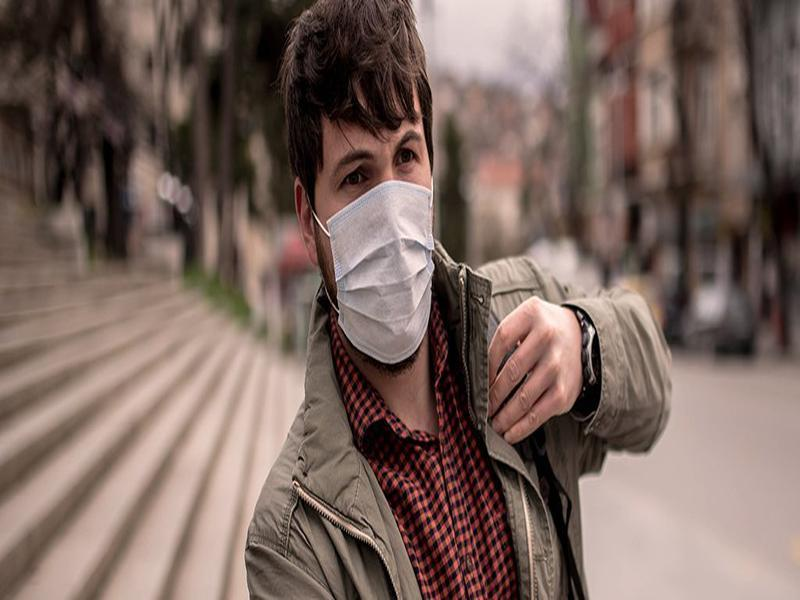mask: (308, 176, 463, 369)
